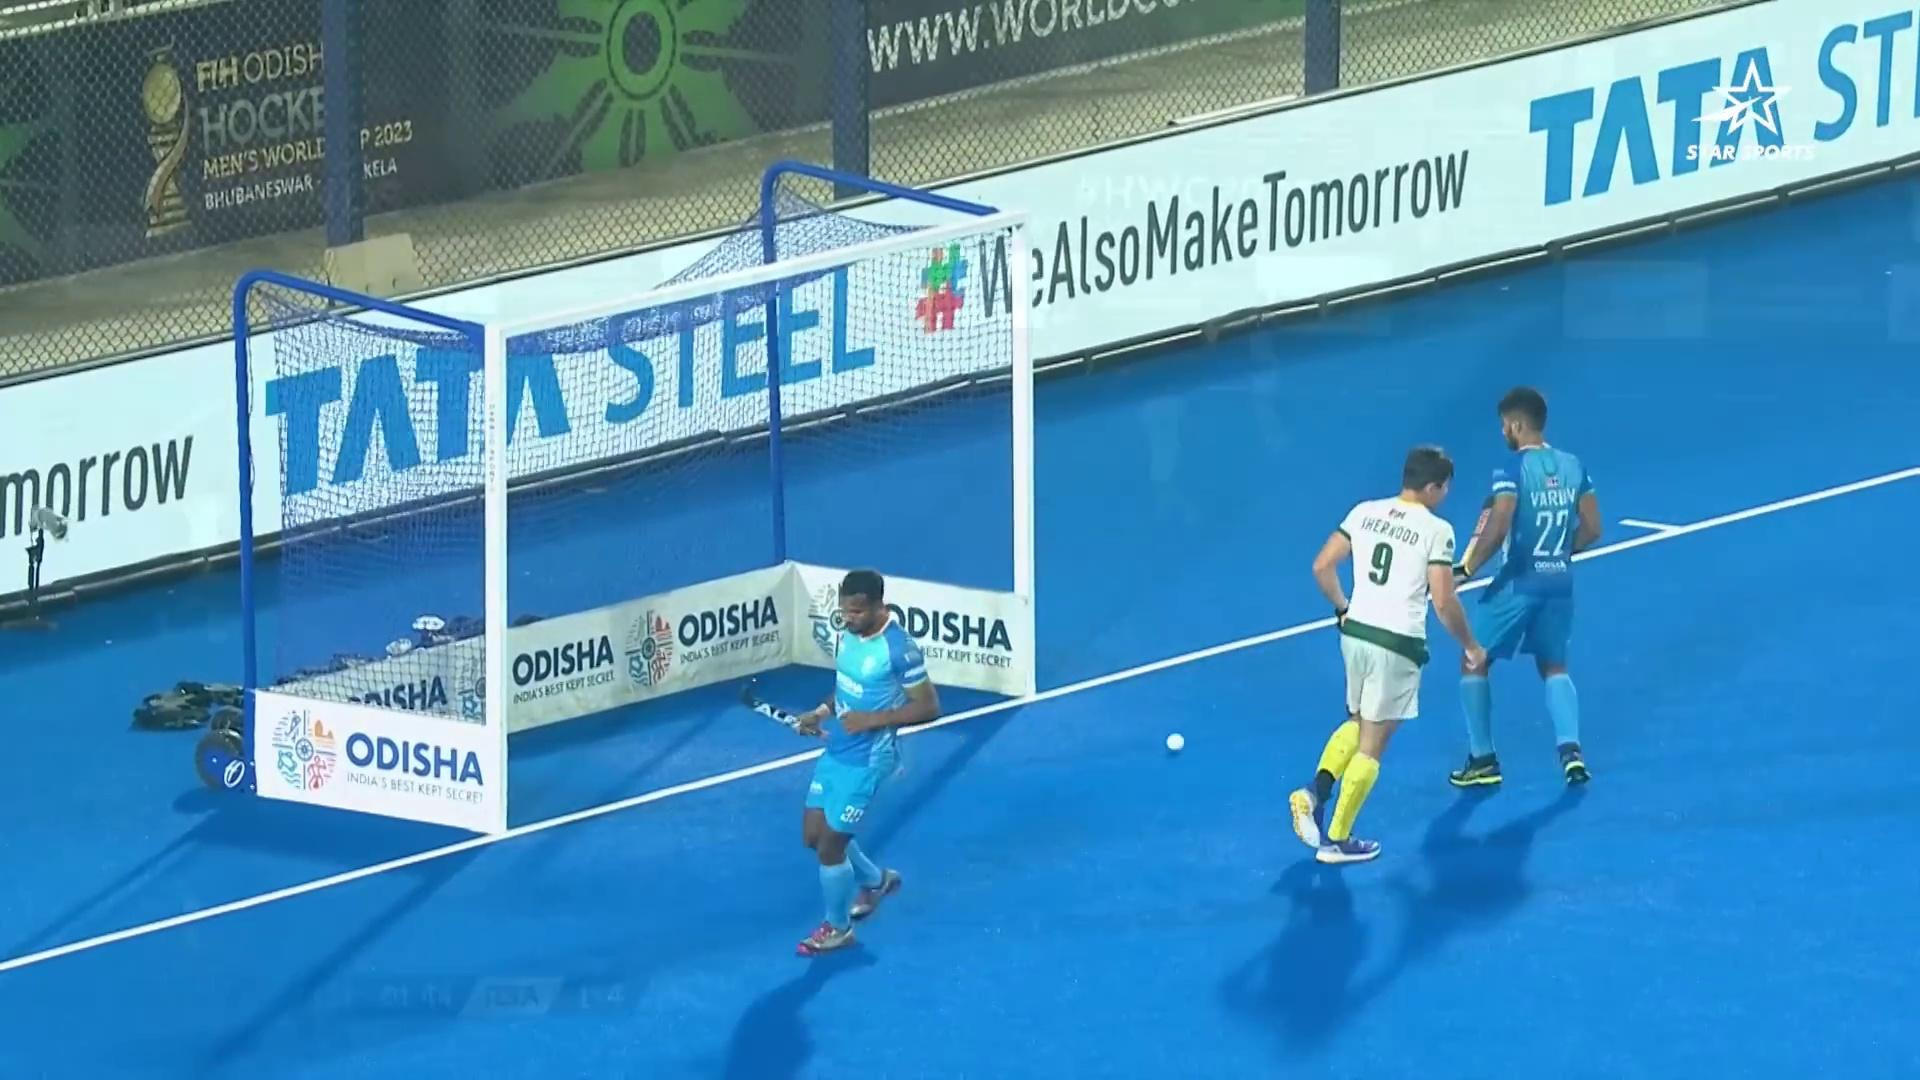ball: (1155, 729, 1197, 758)
